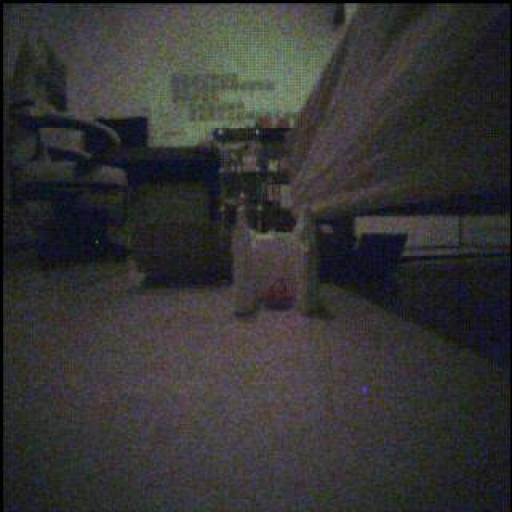basket: (264, 279, 296, 310)
